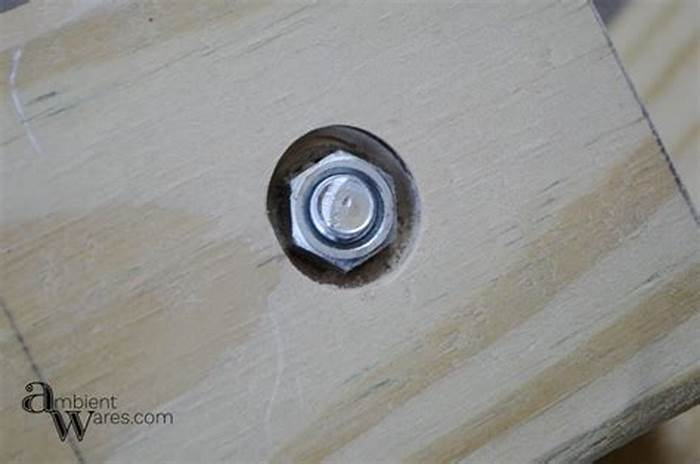bolt_b: (285, 148, 399, 275)
